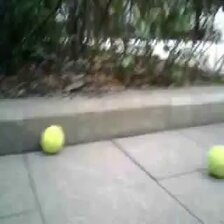tennis: (40, 124, 64, 153), (208, 145, 224, 177)
